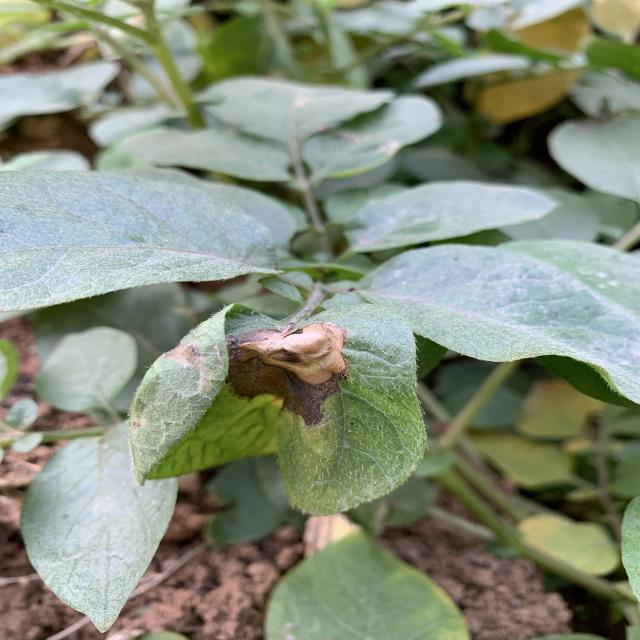lateblight: (227, 322, 348, 425)
